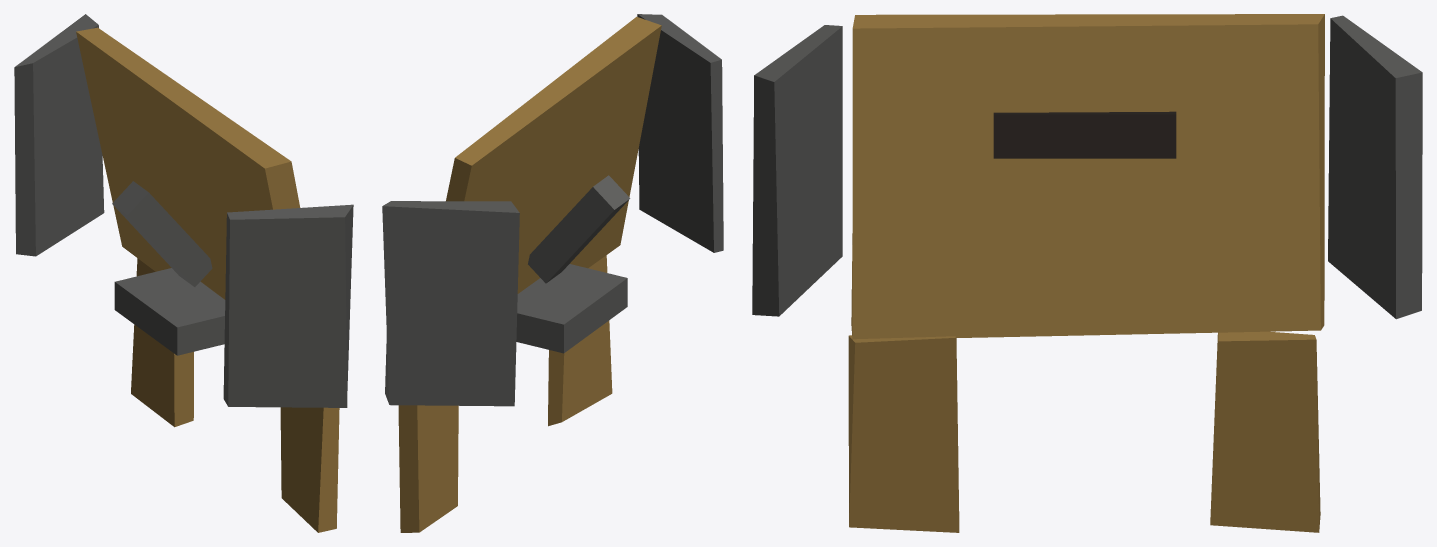
Rendered from wext_shield.glb.
3 renders of one model, left to right at view 1: azimuth 30°, elevation 25°; view 2: azimuth 150°, elevation 25°; view 3: azimuth 270°, elevation 25°, orthographic. The views are drawn at different scales.
Visible parts, largest first — view 1: wext_shield; view 2: wext_shield; view 3: wext_shield.
Boxes of the visible parts, <box> form: wext_shield: <box>14,14,353,532</box>; wext_shield: <box>382,14,723,532</box>; wext_shield: <box>752,14,1422,532</box>.
Bounding box in the file's own units: 0.1454 × 0.4041 × 0.5144.
